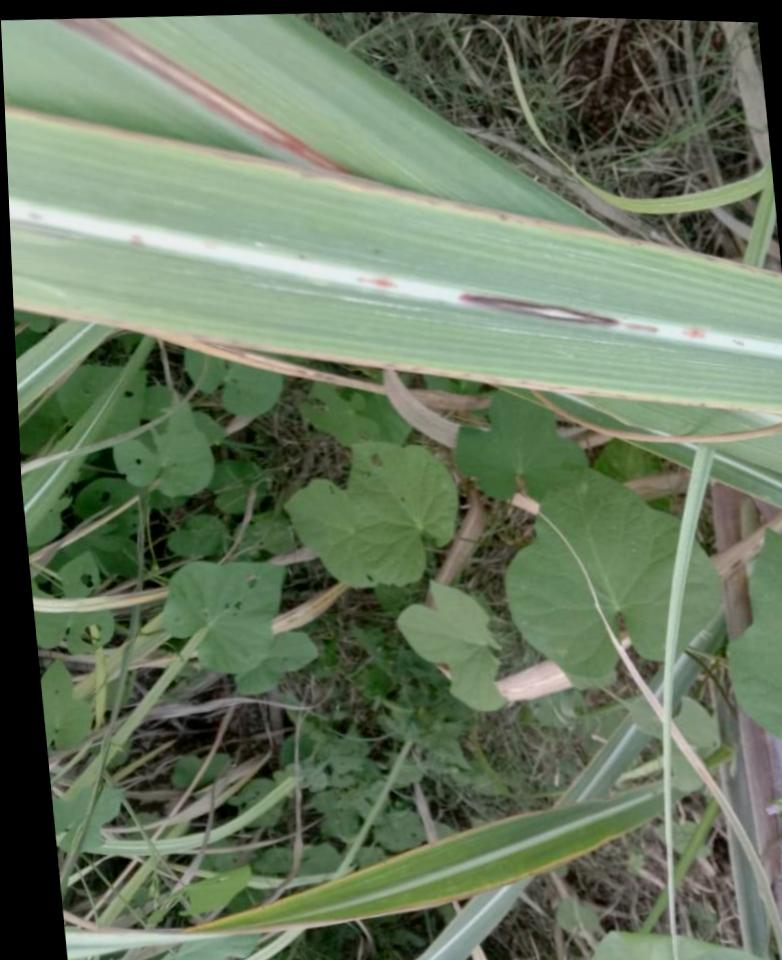RedRot: (54, 19, 345, 175), (339, 270, 703, 344)
Yellow: (186, 809, 547, 932), (360, 826, 636, 917)
